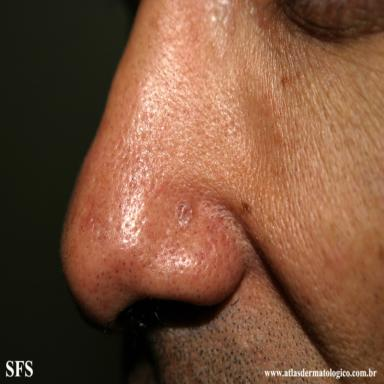basal-cell-carcinoma: (175, 199, 193, 227)
